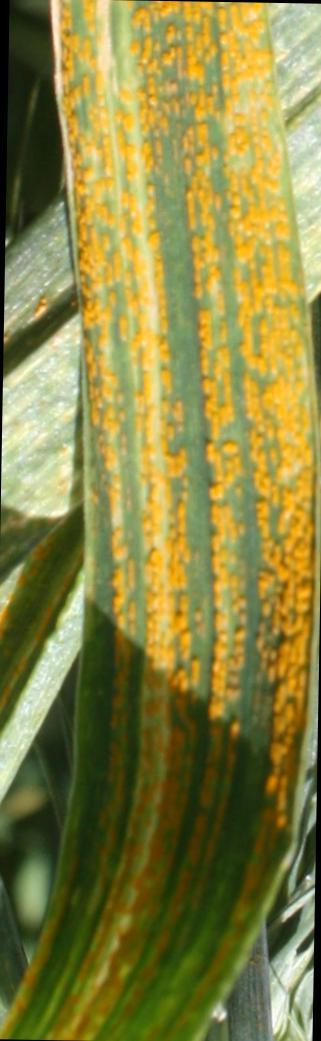Wheat: (91, 4, 320, 834)
